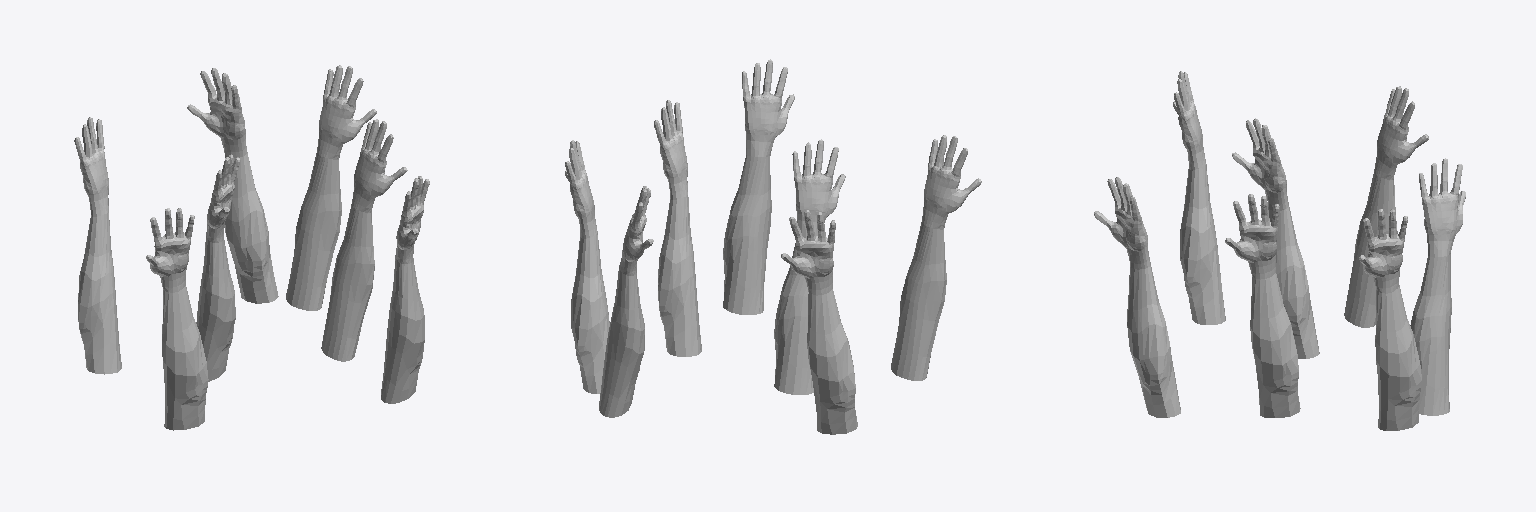
The model's file is MultiArmbasic.obj.
3 renders of one model, left to right at view 1: azimuth 30°, elevation 25°; view 2: azimuth 150°, elevation 25°; view 3: azimuth 270°, elevation 25°, orthographic.
Parts seen in each view (by area): view 1: Model.003; view 2: Model.003; view 3: Model.003.
Boxes of the visible parts, <box> form: Model.003: <box>74,65,429,430</box>; Model.003: <box>565,59,981,434</box>; Model.003: <box>1094,71,1465,430</box>.
Bounding box in the file's own units: 8.19 × 5.7 × 8.19.